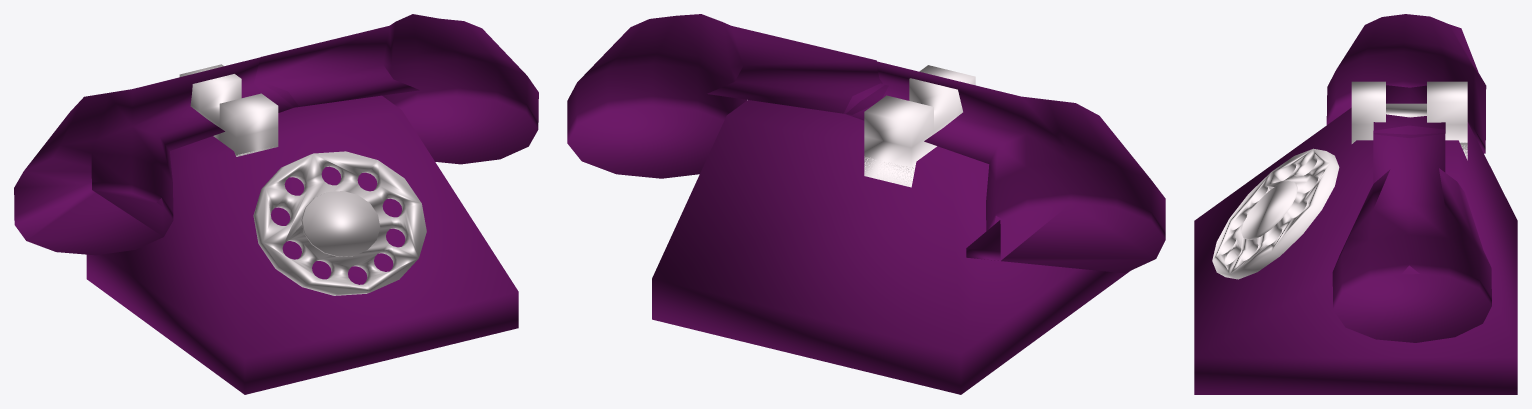
The model's file is phone.glb.
3 views of the same model, side by side, from view 1: azimuth 30°, elevation 25°; view 2: azimuth 150°, elevation 25°; view 3: azimuth 270°, elevation 25° (orthographic). The views are drawn at different scales.
Visible parts, largest first — view 1: ophone_bauch, phone_hörer, phone_wählescheibe, phone_halterung; view 2: ophone_bauch, phone_hörer, phone_halterung; view 3: ophone_bauch, phone_hörer, phone_wählescheibe, phone_halterung.
Part boxes in pixels (bbox=[...]): ophone_bauch: bbox=[86, 95, 518, 394]; phone_hörer: bbox=[14, 14, 538, 255]; phone_wählescheibe: bbox=[253, 151, 426, 295]; phone_halterung: bbox=[179, 64, 278, 156]; ophone_bauch: bbox=[652, 100, 1129, 394]; phone_hörer: bbox=[567, 14, 1165, 273]; phone_halterung: bbox=[864, 65, 975, 187]; ophone_bauch: bbox=[1194, 107, 1517, 394]; phone_hörer: bbox=[1326, 14, 1491, 342]; phone_wählescheibe: bbox=[1212, 148, 1339, 279]; phone_halterung: bbox=[1351, 81, 1467, 160].
Size of the model in its own units: 10.19 by 4.18 by 5.5.
